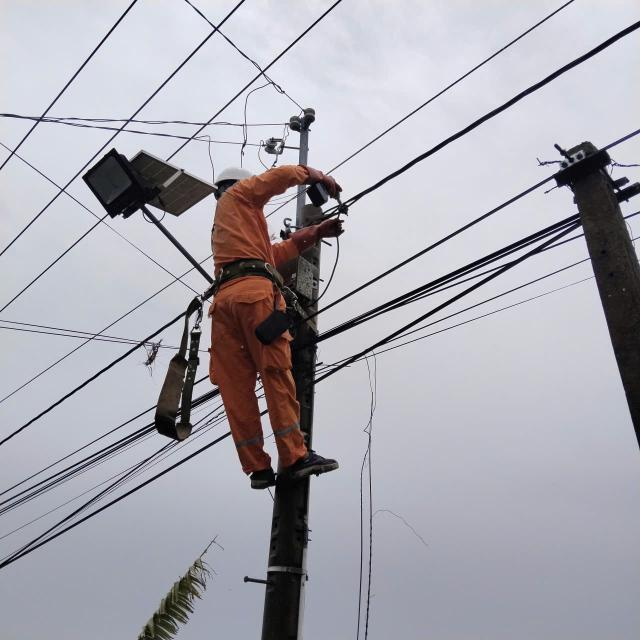gloves: (287, 155, 361, 202), (284, 211, 353, 252)
harness: (192, 255, 307, 300)
helmet: (191, 156, 268, 194)
shoes: (285, 454, 342, 479), (236, 462, 277, 494)
